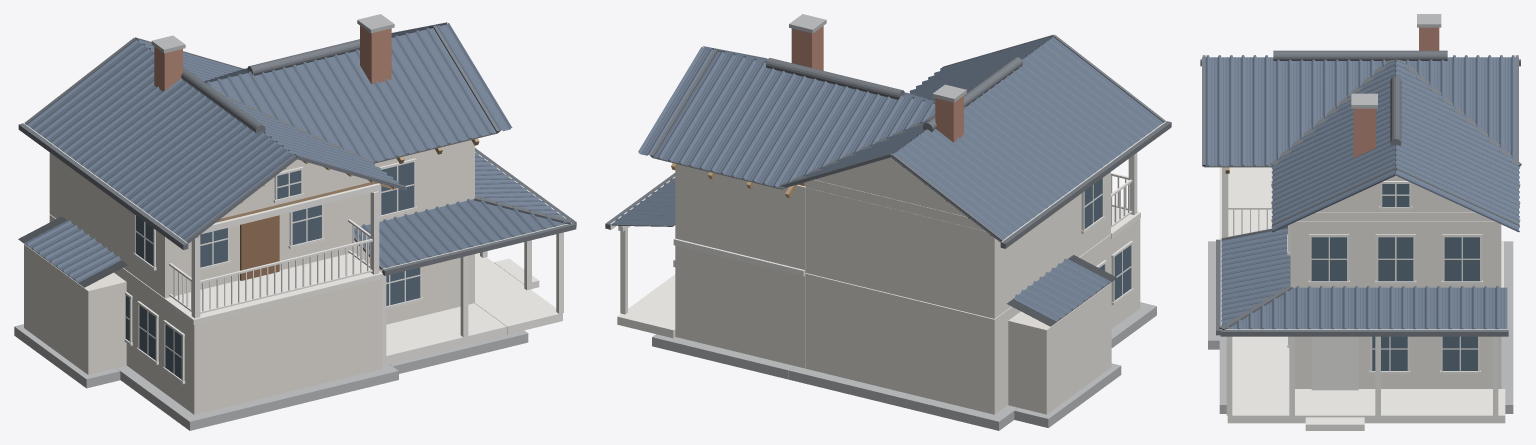
Rendered from Mega_Hi_Rib_LShape_Balcony_House.glb.
3 renders of one model, left to right at view 1: azimuth 30°, elevation 25°; view 2: azimuth 150°, elevation 25°; view 3: azimuth 270°, elevation 25°, orthographic. The views are drawn at different scales.
Parts seen in each view (by area): view 1: WingA_Walls_GF, WingA_Walls_2F, SideBay_Walls, WingB_Walls, Balcony_Floor, Foundation_WingA, Porch_Deck_FrontB, RoofSheet_25, Porch_Deck_RightB, RoofSheet_23, RoofSheet_22, RoofSheet_26 (+54 smaller); view 2: WingA_Walls_2F, WingA_Walls_GF, WingB_Walls, SideBay_Walls, Foundation_WingA, RoofSheet_28, RoofSheet_29, RoofSheet_30, RoofSheet_31, RoofSheet_27, Gable_Wall_WingA_Back, RoofSheet_02 (+37 smaller); view 3: WingB_Walls, Porch_Deck_RightB, RoofSheet_11, RoofSheet_10, RoofSheet_12, Porch_Deck_FrontB, Balcony_Floor, RoofSheet_18, Door_Frame, Gable_Wall_WingB_Right, RoofSheet_17, Gutter_PorchRight (+59 smaller).
Part boxes in pixels (x1,y1,x2,y2): WingA_Walls_GF: [49, 214, 382, 414]; WingA_Walls_2F: [49, 152, 353, 298]; SideBay_Walls: [24, 244, 126, 374]; WingB_Walls: [353, 140, 474, 324]; Balcony_Floor: [164, 253, 382, 324]; Foundation_WingA: [116, 363, 398, 430]; Porch_Deck_FrontB: [382, 303, 506, 364]; RoofSheet_25: [391, 30, 480, 143]; Porch_Deck_RightB: [475, 253, 562, 334]; RoofSheet_23: [326, 49, 417, 159]; RoofSheet_22: [295, 57, 386, 162]; RoofSheet_26: [418, 23, 512, 136]; WingA_Walls_2F: [805, 172, 1110, 318]; WingA_Walls_GF: [805, 218, 1140, 414]; WingB_Walls: [675, 164, 805, 368]; SideBay_Walls: [1008, 282, 1111, 414]; Foundation_WingA: [788, 302, 1156, 430]; RoofSheet_28: [669, 54, 764, 168]; RoofSheet_29: [701, 62, 793, 176]; RoofSheet_30: [732, 73, 825, 183]; RoofSheet_31: [764, 81, 856, 187]; RoofSheet_27: [638, 47, 732, 160]; Gable_Wall_WingA_Back: [814, 149, 967, 216]; RoofSheet_02: [909, 129, 1036, 227]; WingB_Walls: [1290, 221, 1501, 388]; Porch_Deck_RightB: [1227, 389, 1505, 423]; RoofSheet_11: [1237, 56, 1272, 166]; RoofSheet_10: [1202, 56, 1237, 166]; RoofSheet_12: [1272, 57, 1307, 160]; Porch_Deck_FrontB: [1232, 336, 1289, 388]; Balcony_Floor: [1219, 167, 1272, 239]; RoofSheet_18: [1484, 56, 1518, 160]; Door_Frame: [1311, 336, 1358, 390]; Gable_Wall_WingB_Right: [1317, 161, 1474, 212]; RoofSheet_17: [1448, 56, 1483, 130]; Gutter_PorchRight: [1220, 330, 1508, 336].
Bounding box in the file's own units: 12.46 × 7.83 × 8.22.
